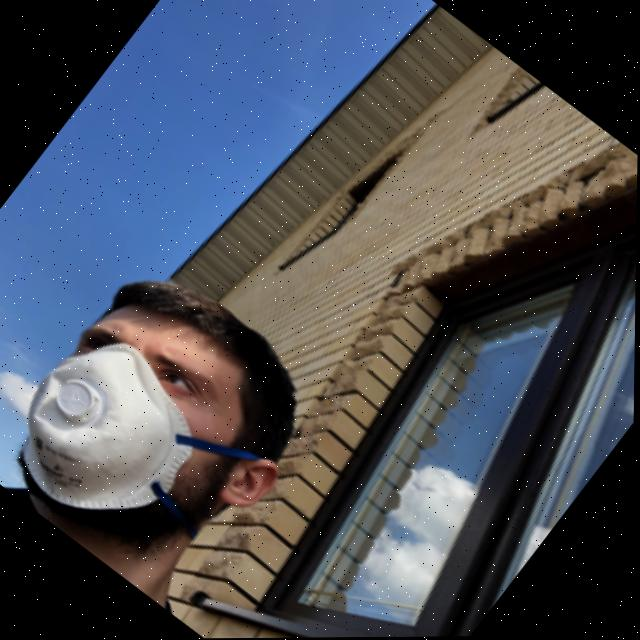Mask: (0, 312, 293, 605)
